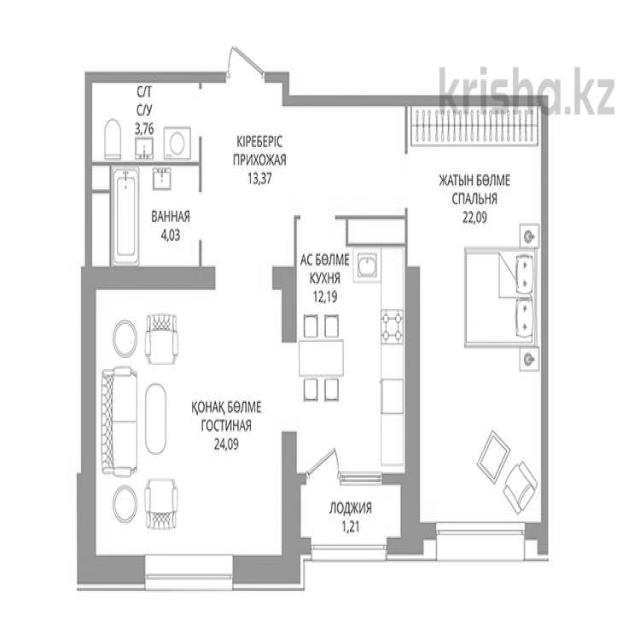balcony: (299, 486, 404, 550)
bathroom: (89, 165, 200, 268), (90, 84, 200, 160)
hallway: (201, 83, 293, 275)
kitchen: (296, 241, 404, 478)
living_room: (409, 110, 546, 530), (89, 285, 289, 564)
